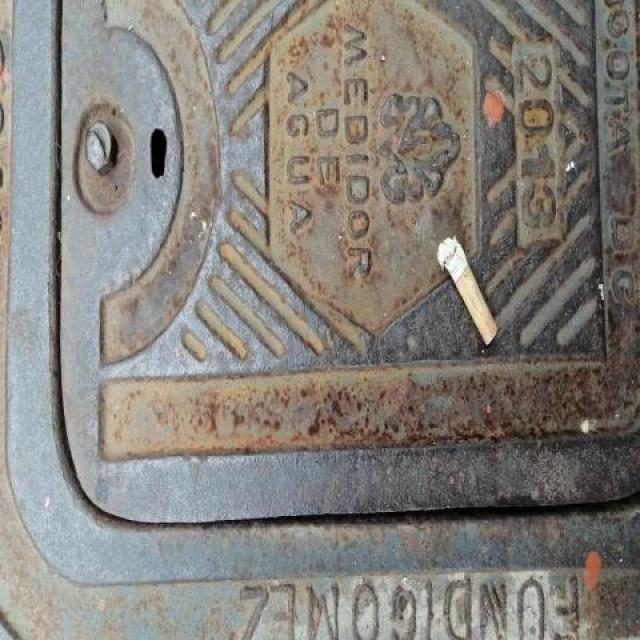non-organic waste: (433, 230, 503, 349)
